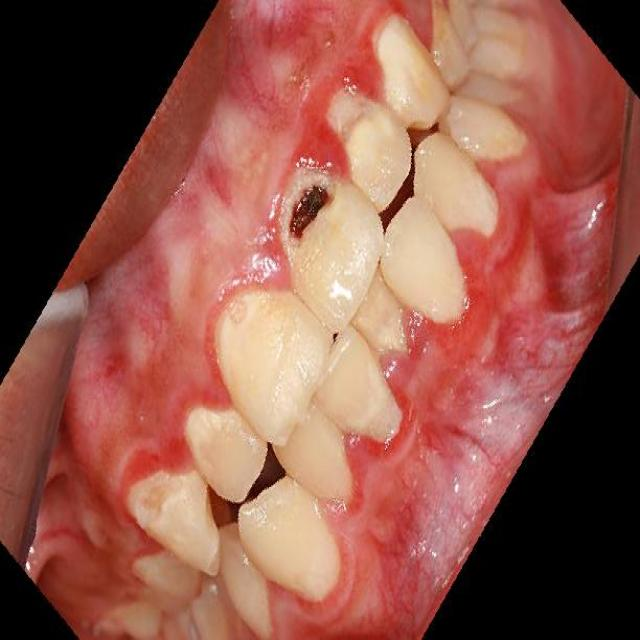caries: (286, 179, 340, 257)
